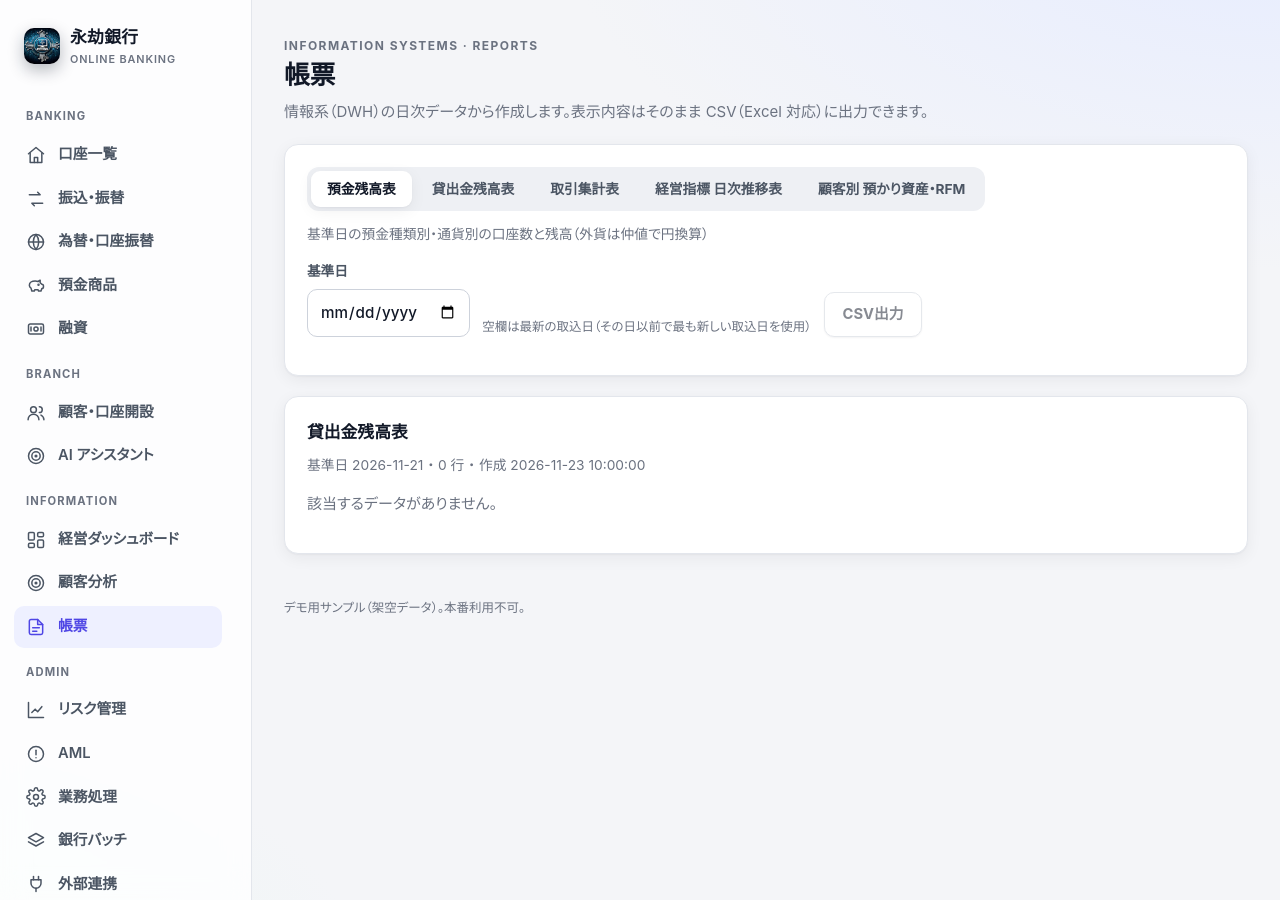
Test: ReportsPage › データが無ければ CSV 出力を無効にし、エラーを表示する
This screenshot has width=1280, height=900.
What coordinates should you click on to do the following:
click the tab "貸出金残高表"
I would click on:
 (473, 189)
Its box is [416, 171, 530, 207].
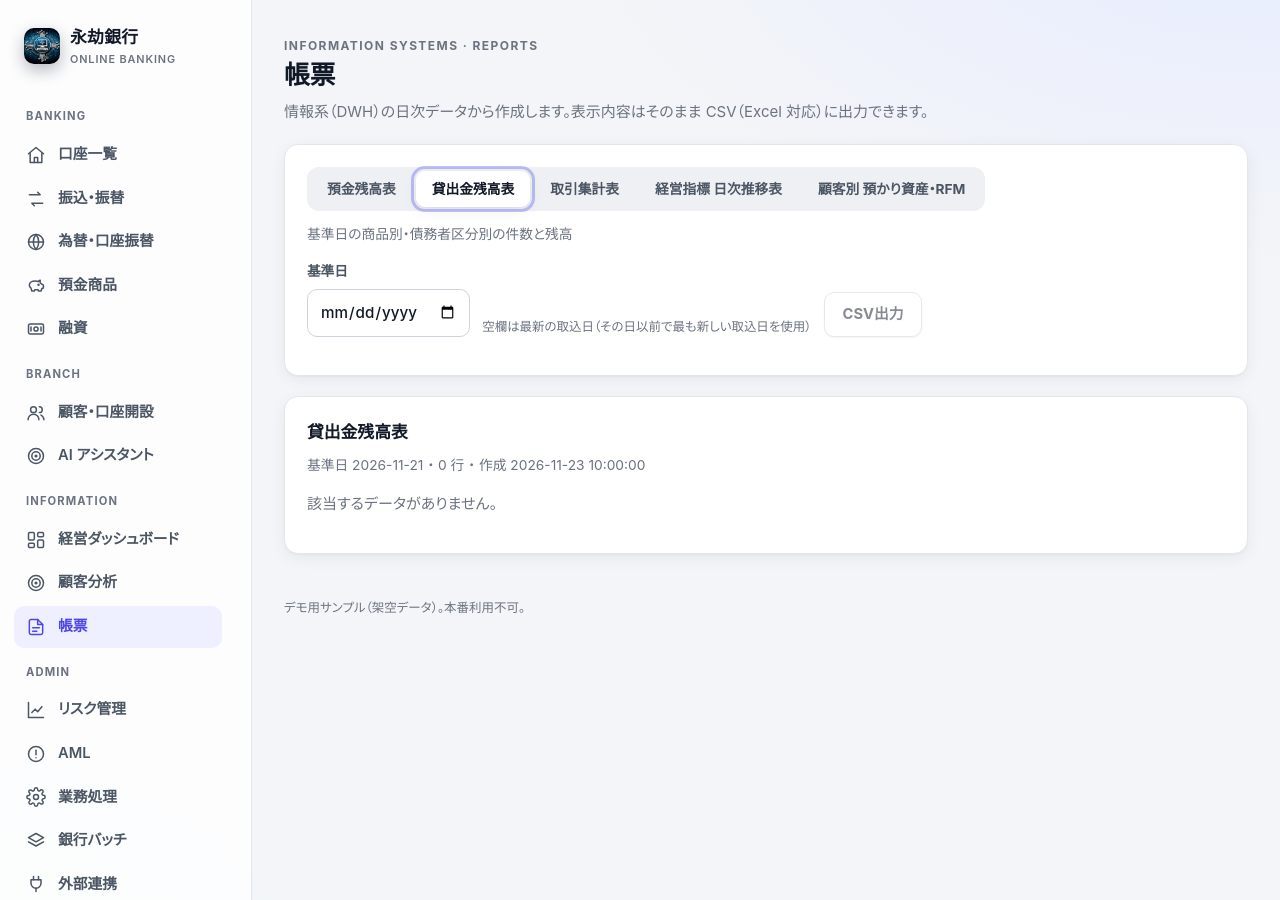
Expected: the text "該当するデータがありません。" is shown, [307, 494, 497, 513]
Expected: the button "CSV出力" is disabled, [824, 292, 922, 337]
What coordinates should you click on to do the following:
click the tab "経営指標 日次推移表"
I would click on:
 (718, 189)
Its box is [639, 171, 798, 207].
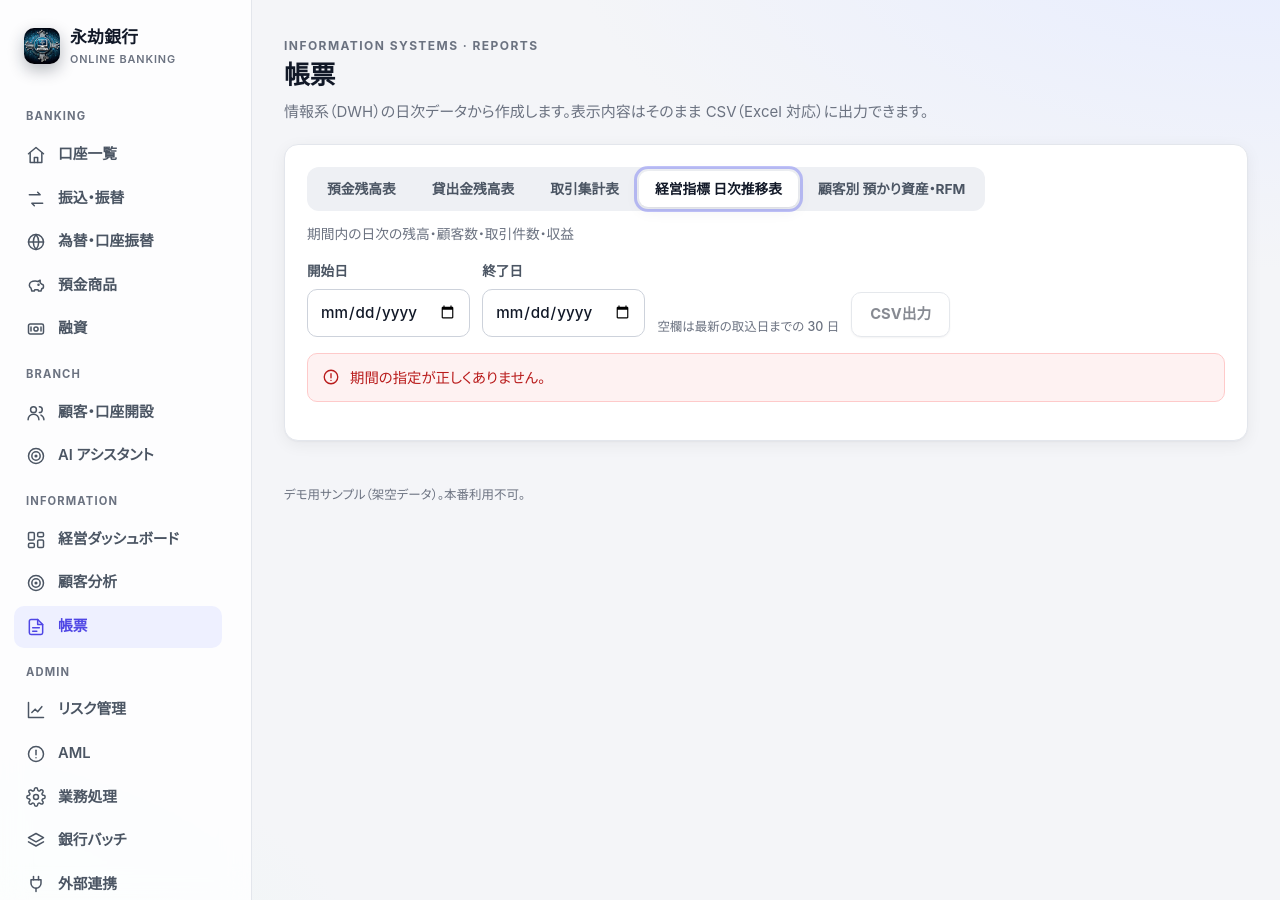
Result: the message reads "期間の指定が正しくありません。" at [350, 369, 545, 386]
